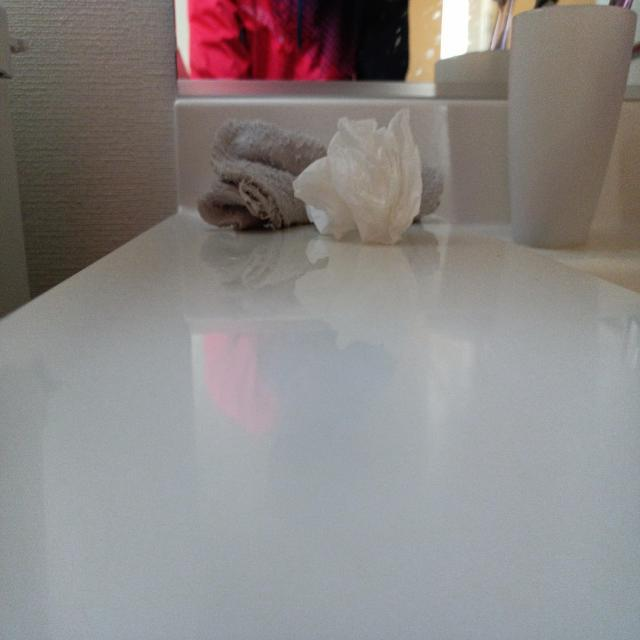Paper: (294, 109, 440, 252)
